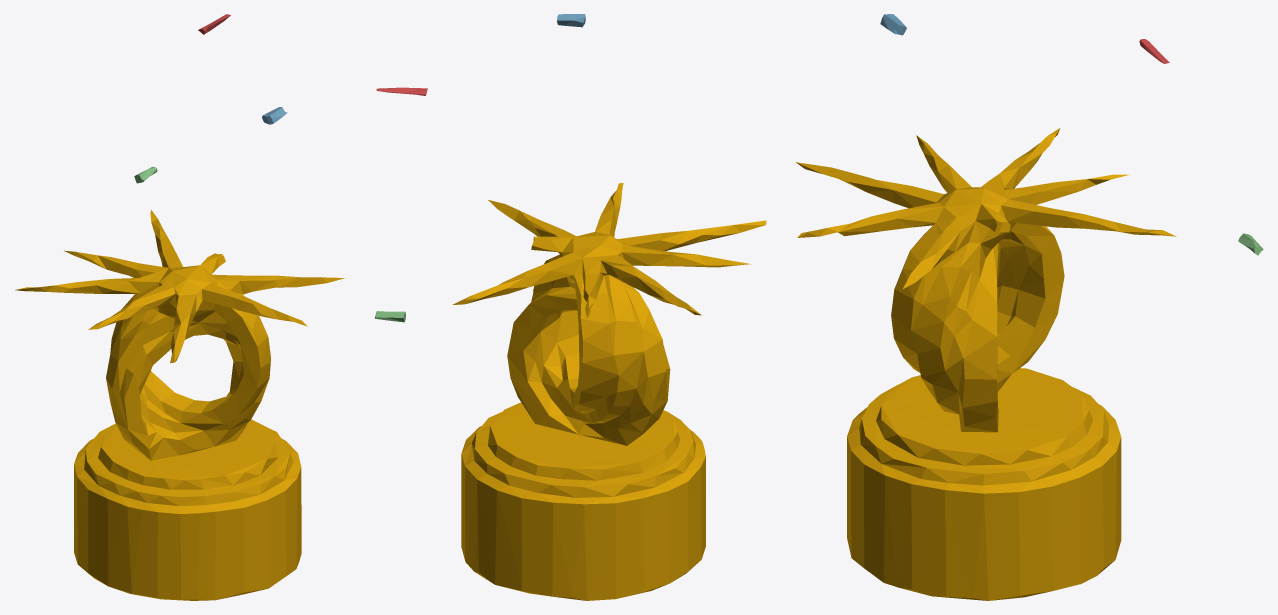
Rendered from fractured_43_4pcs_transformed.glb.
The picture shows the model from 3 angles, left to right: view 1: azimuth 30°, elevation 25°; view 2: azimuth 150°, elevation 25°; view 3: azimuth 270°, elevation 25°; orthographic projection. The views are drawn at different scales.
Parts seen in each view (by area): view 1: piece_0.obj; view 2: piece_0.obj; view 3: piece_0.obj.
Part boxes in pixels (x1,y1,x2,y2): piece_0.obj: (15, 210, 344, 600); piece_0.obj: (452, 183, 766, 600); piece_0.obj: (795, 128, 1176, 600).
Bounding box in the file's own units: 0.9659 × 1.6 × 1.23.
